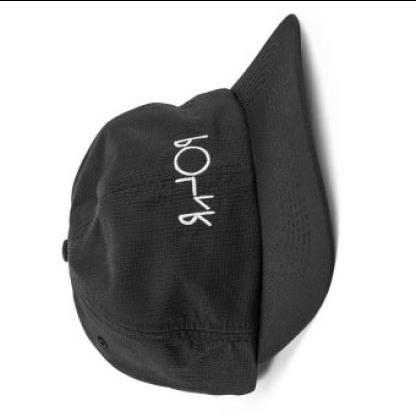cap: (51, 10, 338, 402)
